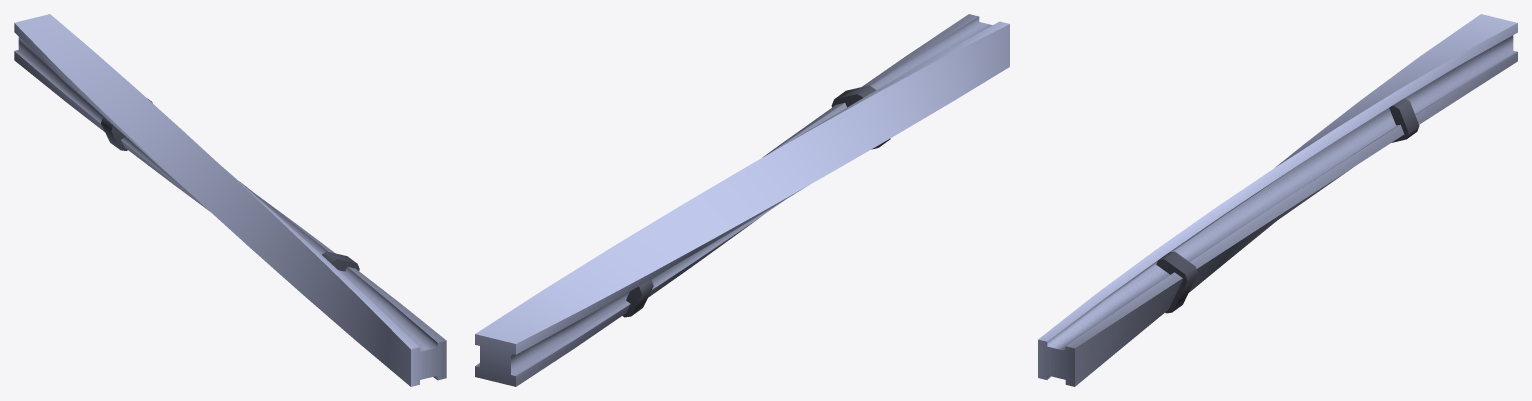
The model's file is coaster-monorail-straight-skew-right-side.glb.
3 renders of one model, left to right at view 1: azimuth 30°, elevation 25°; view 2: azimuth 150°, elevation 25°; view 3: azimuth 330°, elevation 25°, orthographic. The views are drawn at different scales.
Visible parts, largest first — view 1: coaster-monorail-straight-skew-right-side; view 2: coaster-monorail-straight-skew-right-side; view 3: coaster-monorail-straight-skew-right-side.
Part boxes in pixels (x1,y1,x2,y2): coaster-monorail-straight-skew-right-side: [14, 14, 446, 386]; coaster-monorail-straight-skew-right-side: [475, 14, 1009, 386]; coaster-monorail-straight-skew-right-side: [1038, 14, 1517, 386].
Bounding box in the file's own units: 0.3372 × 0.3372 × 4.
Materials: 1 (1 with a texture image).
